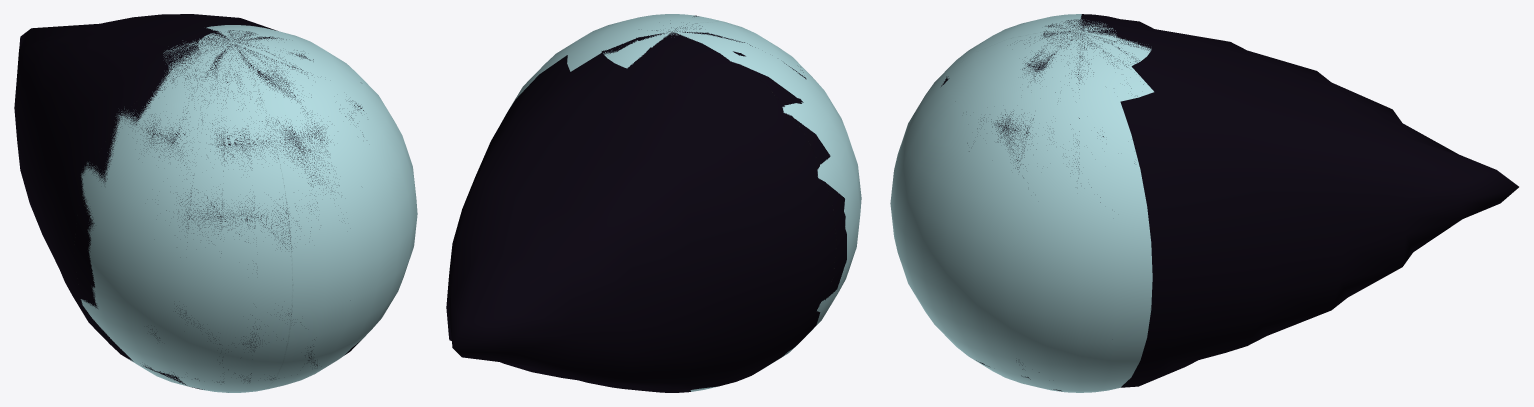
The model's file is projectiles1.fbx.
The picture shows the model from 3 angles, left to right: view 1: azimuth 30°, elevation 25°; view 2: azimuth 150°, elevation 25°; view 3: azimuth 270°, elevation 25°; orthographic projection. The views are drawn at different scales.
Visible parts, largest first — view 1: bubble, fireball; view 2: fireball, bubble; view 3: fireball, bubble.
Boxes of the visible parts, x1,y1,x2,y2 form: bubble: [80, 25, 417, 392]; fireball: [14, 14, 363, 389]; fireball: [446, 15, 846, 392]; bubble: [502, 14, 861, 391]; fireball: [941, 14, 1518, 391]; bubble: [890, 14, 1153, 392].
Size of the model in its own units: 200 by 200 by 332.
